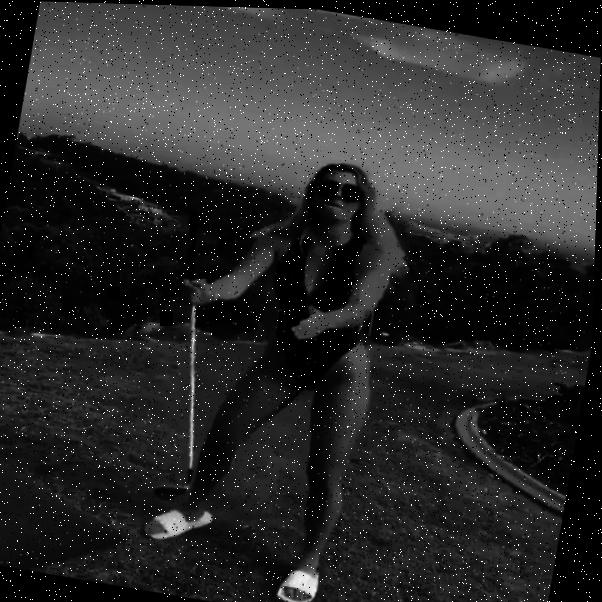ClubHead: (157, 481, 194, 499)
